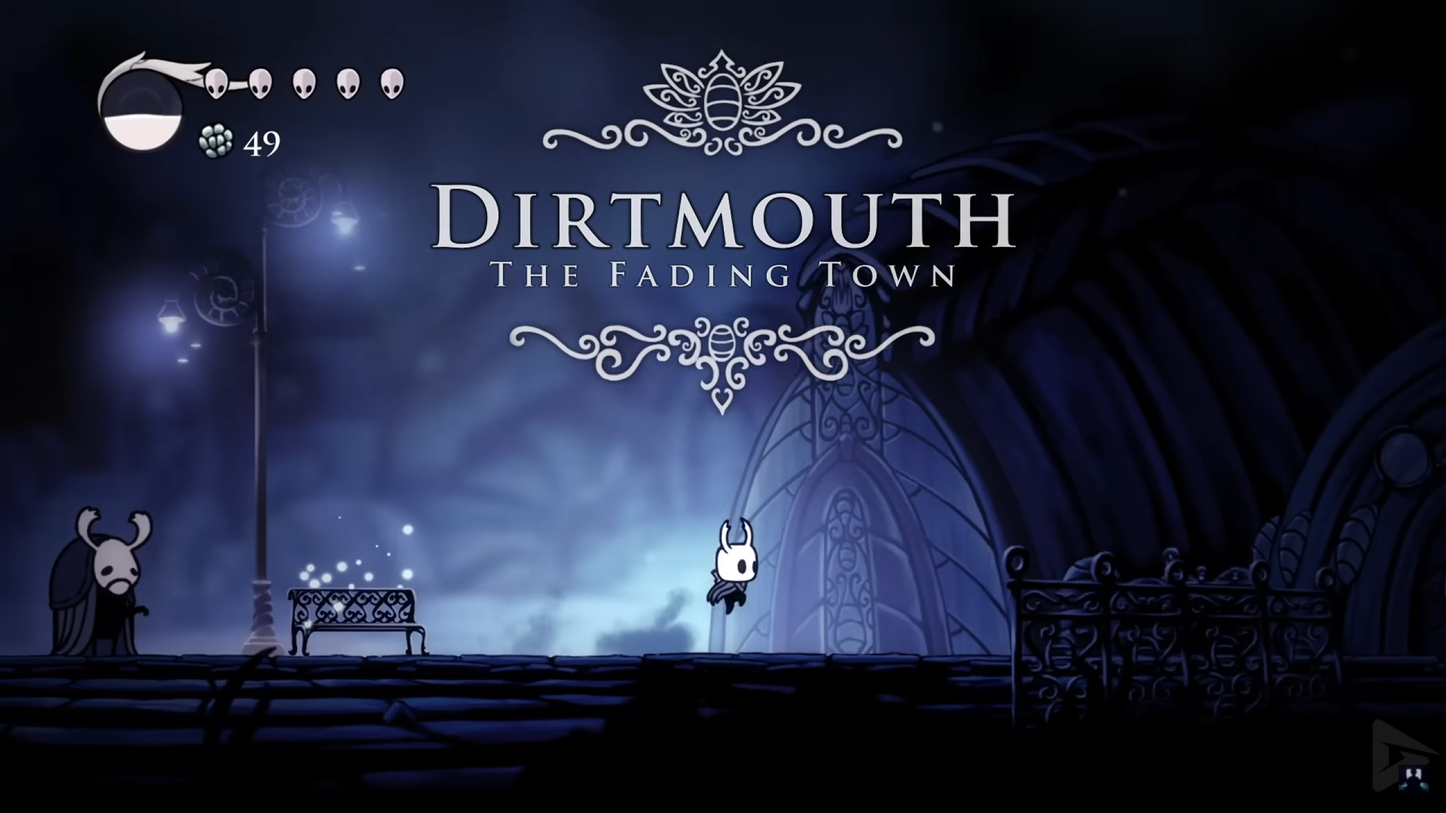HK: (702, 513, 763, 623)
